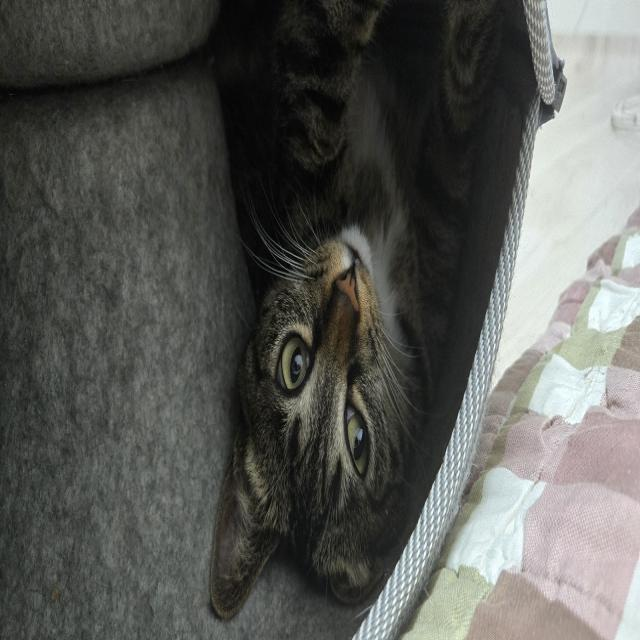cat: (208, 206, 418, 612)
